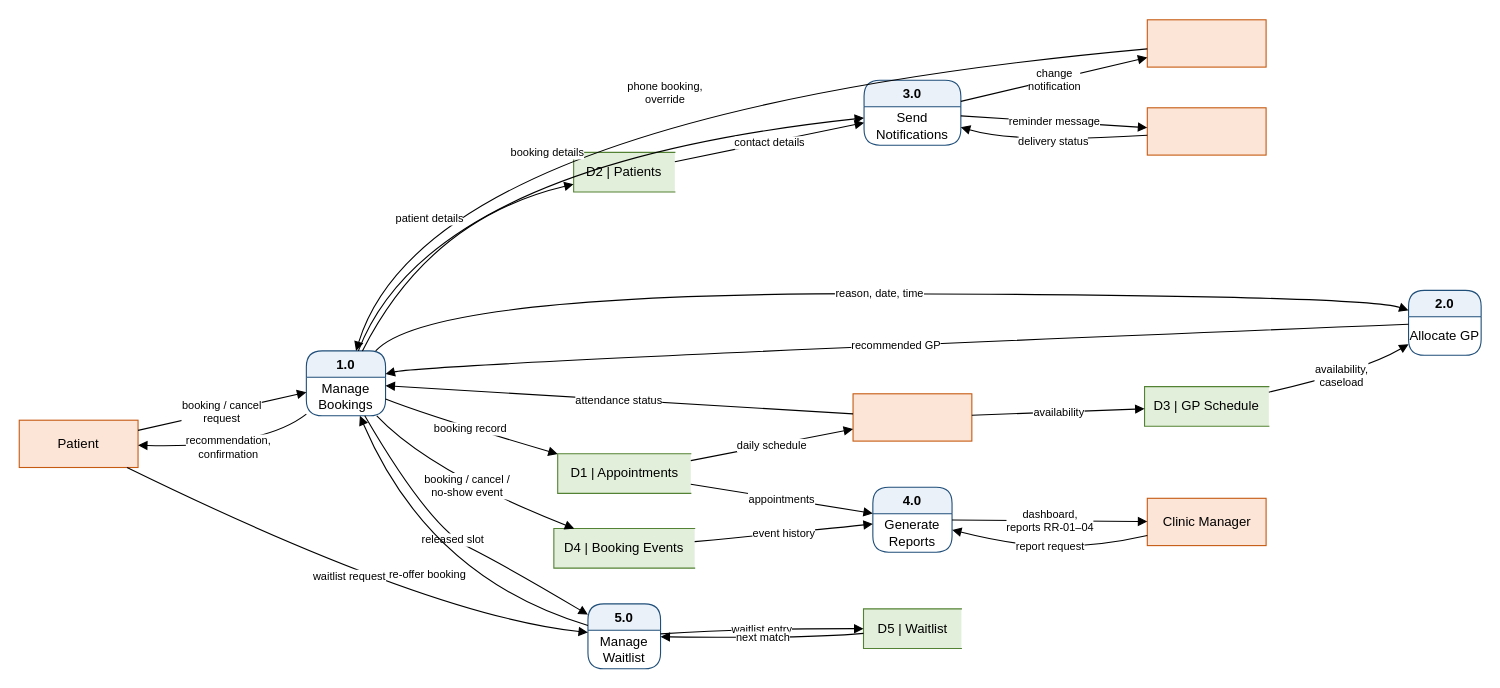
Some shapes in this 1500 by 688 pixel diagram are drawn without their labels. Here are the shapes that lost their labels. From the top down, the centre of each, then its label:
At pixel 1206 43: "Reception Staff".
At pixel 1206 131: "SMS / Email Gateway".
At pixel 912 417: "GP".
